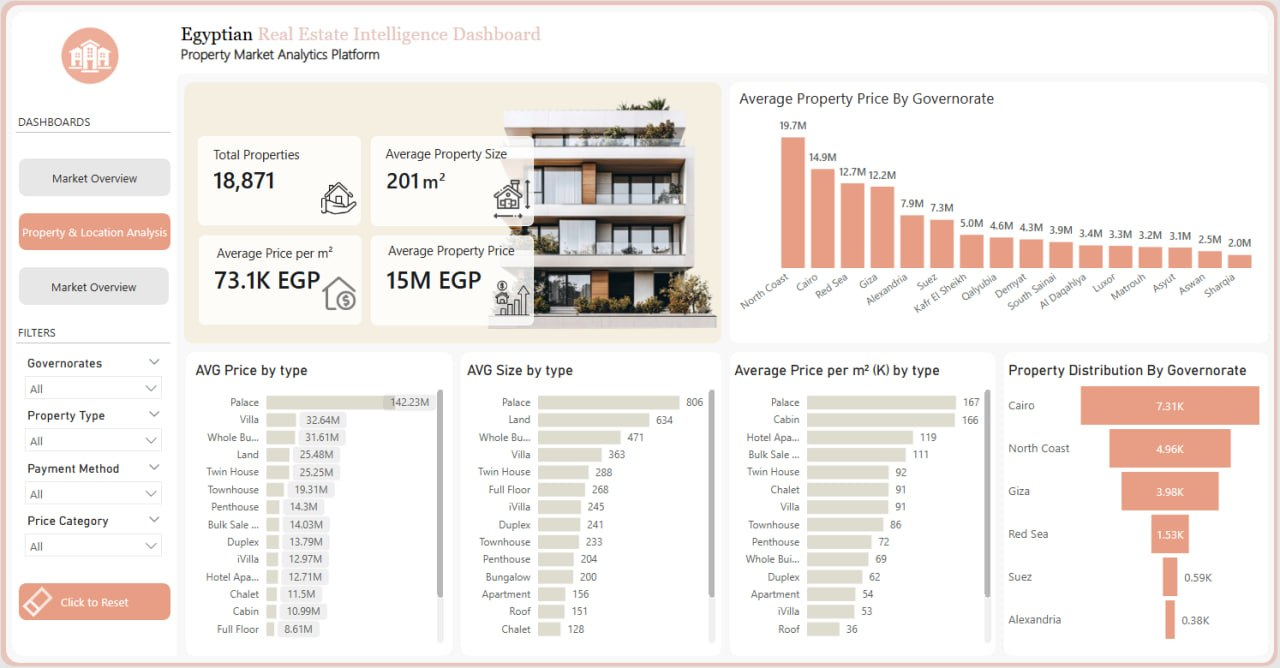

The page's visual inventory and layout, read from the dashboard file:
{"tool":"powerbi","page":{"name":"Property & Location Analysis","canvas":[1520,800],"ordinal":1},"visuals":[{"type":"shape","box":[17.2,10.3,1489.7,777],"z":0},{"type":"shape","box":[23,14.9,1480.5,767.8],"z":1000},{"type":"shape","box":[29.9,23,1465.5,751.7],"z":2000},{"type":"shape","box":[221.9,95.1,1279,687.5],"z":3000},{"type":"shape","box":[230.7,105.1,627.5,305],"z":4000},{"type":"image","box":[568.2,77.6,303.8,355],"z":5000},{"type":"cardVisual","title":"Total Units","fields":{"Data":["_measure.Total Properties"]},"box":[247.1,167.8,190,104.6],"z":6000},{"type":"image","box":[37.9,32.2,174.7,87.4],"z":7000},{"type":"shape","box":[868.2,105.1,627.5,305],"z":8000},{"type":"shape","box":[233.2,420.1,311.2,355],"z":9000},{"type":"shape","box":[554.4,420.1,303.8,355],"z":10000},{"type":"shape","box":[868.2,420.1,310,355],"z":11000},{"type":"shape","box":[1188.2,420.1,307.5,355],"z":12000},{"type":"textbox","box":[221.9,31.4,521.2,63.8],"z":13000},{"type":"textbox","box":[32.2,136.8,300,48.3],"z":14000},{"type":"shape","box":[34.5,75.9,180.5,174.7],"z":15000},{"type":"textbox","box":[32.2,382.8,300,48.3],"z":16000},{"type":"shape","box":[34.5,321.8,180.5,174.7],"z":17000},{"type":"pageNavigator","box":[37.5,193.8,177.5,43.8],"z":18000},{"type":"pageNavigator","box":[37.5,257.5,177.5,43.8],"z":19000},{"type":"actionButton","box":[37.5,690,177.5,42.5],"z":20000},{"type":"textbox","box":[260,173.8,143.8,35],"z":21000},{"type":"cardVisual","title":"Total Units","fields":{"Data":["_measure.AVG Size"]},"box":[448.8,167.5,190,105],"z":22000},{"type":"textbox","box":[461.2,172.5,198.8,35],"z":23000},{"type":"cardVisual","title":"Total Units","fields":{"Data":["_measure.Average Price per m² (K)"]},"box":[247.5,283.8,190,103.8],"z":24000},{"type":"textbox","box":[263.8,288.8,198.8,35],"z":25000},{"type":"cardVisual","title":"Total Units","fields":{"Data":["_measure.AVG Price"]},"box":[448.8,283.8,190,105],"z":26000},{"type":"textbox","box":[463.8,286.2,163.8,35],"z":27000},{"type":"textbox","box":[503.8,201.2,80,65],"z":28000},{"type":"image","box":[388.8,220,45,41.2],"z":29000},{"type":"image","box":[388.8,327.5,45,47.5],"z":30000},{"type":"image","box":[591.2,217.5,45,46.2],"z":31000},{"type":"image","box":[591.2,336.2,45,41.2],"z":32000},{"type":"columnChart","title":"Average Property Price By Governorate","fields":{"Y":["_measure.AVG Price"],"Category":["dim_location.governorate"]},"box":[873.8,111.2,622.5,287.5],"z":33000},{"type":"clusteredBarChart","fields":{"Category":["dim_property.type","dim_payment.payment_method"],"Y":["_measure.AVG Price"]},"box":[238.8,431.2,300,333.8],"z":34000},{"type":"slicer","fields":{"Values":["dim_location.governorate"]},"box":[35,420,180,61.2],"z":35000},{"type":"slicer","fields":{"Values":["dim_property.type"]},"box":[35,481.2,180,61.2],"z":36000},{"type":"slicer","fields":{"Values":["dim_payment.payment_method"]},"box":[35,542.5,180,61.2],"z":37000},{"type":"slicer","fields":{"Values":["dim_property.price_category"]},"box":[35,603.8,180,61.2],"z":38000},{"type":"clusteredBarChart","fields":{"Category":["dim_property.type"],"Y":["_measure.AVG Size"]},"box":[556,431,300,334],"z":38001},{"type":"clusteredBarChart","fields":{"Category":["dim_property.type"],"Y":["_measure.Average Price per m² (K)"]},"box":[868,431,310,334],"z":38002},{"type":"funnel","title":"Property Distribution  By Governorate","fields":{"Category":["dim_location.governorate"],"Y":["Count(fact_property.property_id)"]},"box":[1188,431,308,334],"z":38003},{"type":"pageNavigator","box":[37.5,321.2,175,43.8],"z":38005}]}

Visuals, with their boxes on the page's 1520x800 design canvas (x1, y1, x2, y2). These are canvas units, not pixel positions in the 1280x668 screenshot, which may show the page scaled, cropped or inside an application window:
shape: pyautogui.locateOnScreen(17, 10, 1507, 787)
shape: pyautogui.locateOnScreen(23, 15, 1504, 783)
shape: pyautogui.locateOnScreen(30, 23, 1495, 775)
shape: pyautogui.locateOnScreen(222, 95, 1501, 783)
shape: pyautogui.locateOnScreen(231, 105, 858, 410)
image: pyautogui.locateOnScreen(568, 78, 872, 433)
"Total Units" cardVisual: pyautogui.locateOnScreen(247, 168, 437, 272)
image: pyautogui.locateOnScreen(38, 32, 213, 120)
shape: pyautogui.locateOnScreen(868, 105, 1496, 410)
shape: pyautogui.locateOnScreen(233, 420, 544, 775)
shape: pyautogui.locateOnScreen(554, 420, 858, 775)
shape: pyautogui.locateOnScreen(868, 420, 1178, 775)
shape: pyautogui.locateOnScreen(1188, 420, 1496, 775)
textbox: pyautogui.locateOnScreen(222, 31, 743, 95)
textbox: pyautogui.locateOnScreen(32, 137, 332, 185)
shape: pyautogui.locateOnScreen(34, 76, 215, 251)
textbox: pyautogui.locateOnScreen(32, 383, 332, 431)
shape: pyautogui.locateOnScreen(34, 322, 215, 496)
pageNavigator: pyautogui.locateOnScreen(38, 194, 215, 238)
pageNavigator: pyautogui.locateOnScreen(38, 258, 215, 301)
actionButton: pyautogui.locateOnScreen(38, 690, 215, 732)
textbox: pyautogui.locateOnScreen(260, 174, 404, 209)
"Total Units" cardVisual: pyautogui.locateOnScreen(449, 168, 639, 272)
textbox: pyautogui.locateOnScreen(461, 172, 660, 208)
"Total Units" cardVisual: pyautogui.locateOnScreen(248, 284, 438, 388)
textbox: pyautogui.locateOnScreen(264, 289, 463, 324)
"Total Units" cardVisual: pyautogui.locateOnScreen(449, 284, 639, 389)
textbox: pyautogui.locateOnScreen(464, 286, 628, 321)
textbox: pyautogui.locateOnScreen(504, 201, 584, 266)
image: pyautogui.locateOnScreen(389, 220, 434, 261)
image: pyautogui.locateOnScreen(389, 328, 434, 375)
image: pyautogui.locateOnScreen(591, 218, 636, 264)
image: pyautogui.locateOnScreen(591, 336, 636, 377)
"Average Property Price By Governorate" columnChart: pyautogui.locateOnScreen(874, 111, 1496, 399)
clusteredBarChart - dim_property.type x dim_payment.payment_method: pyautogui.locateOnScreen(239, 431, 539, 765)
slicer - dim_location.governorate: pyautogui.locateOnScreen(35, 420, 215, 481)
slicer - dim_property.type: pyautogui.locateOnScreen(35, 481, 215, 542)
slicer - dim_payment.payment_method: pyautogui.locateOnScreen(35, 542, 215, 604)
slicer - dim_property.price_category: pyautogui.locateOnScreen(35, 604, 215, 665)
clusteredBarChart - dim_property.type x _measure.AVG Size: pyautogui.locateOnScreen(556, 431, 856, 765)
clusteredBarChart - dim_property.type x _measure.Average Price per m² (K): pyautogui.locateOnScreen(868, 431, 1178, 765)
"Property Distribution  By Governorate" funnel: pyautogui.locateOnScreen(1188, 431, 1496, 765)
pageNavigator: pyautogui.locateOnScreen(38, 321, 212, 365)
